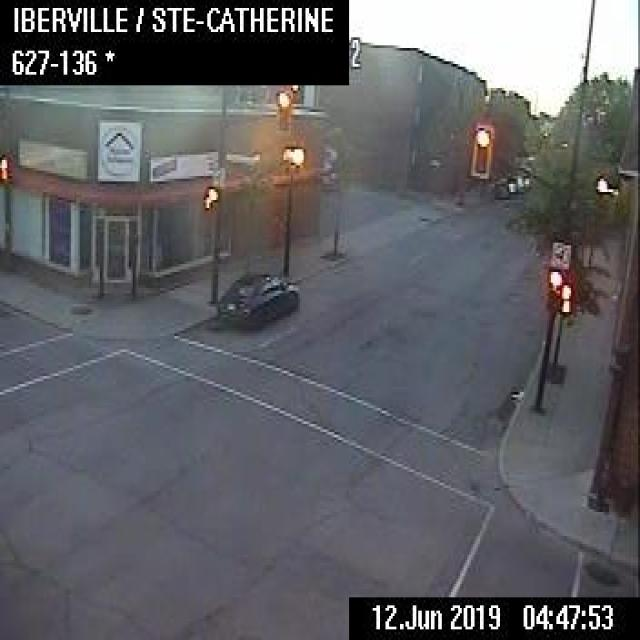vehicle: (214, 264, 300, 331), (493, 177, 510, 198), (505, 173, 515, 193)
